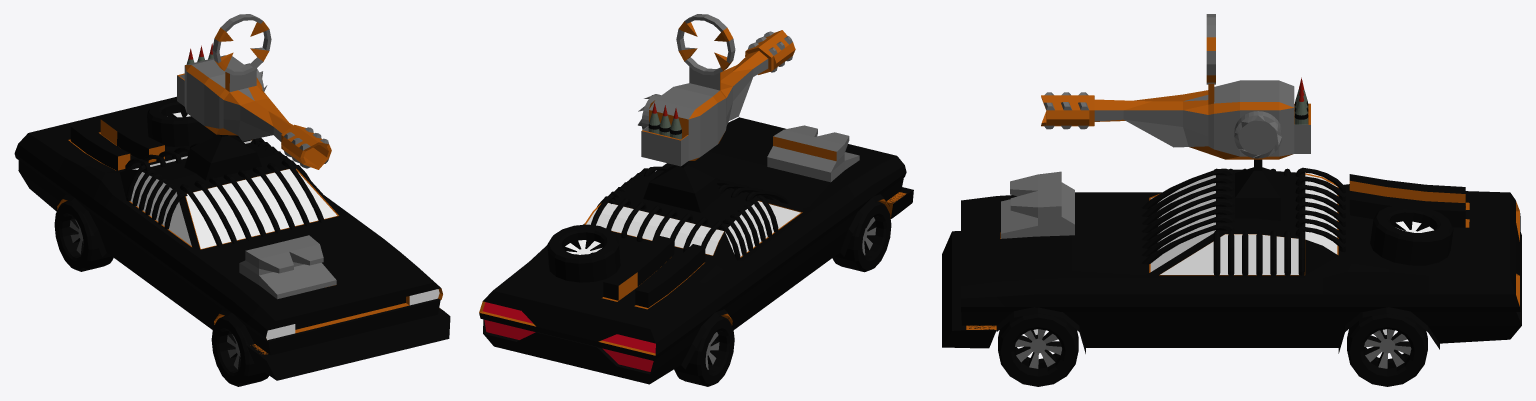
The model's file is Car_RailGun.fbx.
The picture shows the model from 3 angles, left to right: view 1: azimuth 30°, elevation 25°; view 2: azimuth 150°, elevation 25°; view 3: azimuth 270°, elevation 25°; orthographic projection. The views are drawn at different scales.
Visible parts, largest first — view 1: Top_A, Car Main, Bot_A, BigGun, Window_A, Wheel4, Wheel2, AimHelper; view 2: Top_A, Car Main, Bot_A, BigGun, Window_A, Wheel4, Wheel2, AimHelper, Bullet; view 3: Top_A, Car Main, Bot_A, BigGun, Window_A, Wheel1, Wheel3, GunAttachement, AimHelper, Bullet.
Part boxes in pixels (x1,y1,x2,y2): Top_A: (14,96,442,341); Car Main: (57,99,439,354); Bot_A: (18,160,450,380); BigGun: (177,55,331,169); Window_A: (125,135,324,247); Wheel4: (54,201,113,271); Wheel2: (211,315,268,386); AimHelper: (212,14,271,75); Top_A: (479,117,906,360); Car Main: (483,125,906,371); Bot_A: (483,178,913,384); BigGun: (641,30,795,166); Window_A: (590,166,788,260); Wheel4: (674,316,734,386); Wheel2: (832,201,891,272); AimHelper: (676,14,735,75); Bullet: (648,102,681,139); Top_A: (961,159,1520,311); Car Main: (966,171,1465,329); Bot_A: (942,231,1521,353); BigGun: (1041,80,1310,159); Window_A: (1142,167,1345,275); Wheel1: (998,313,1078,386); Wheel3: (1347,313,1427,386); GunAttachement: (1234,111,1281,158); AimHelper: (1206,14,1215,84); Bullet: (1294,77,1308,124).
Bounding box in the file's own units: 138 × 207 × 338.
